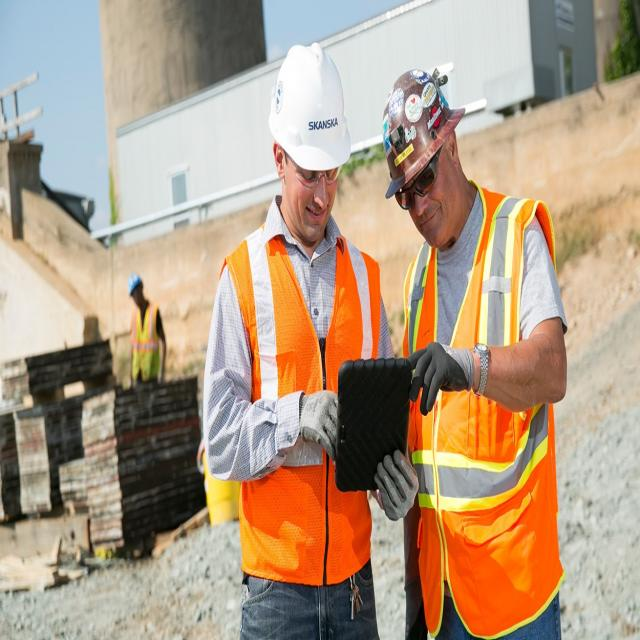Reflective-Jacket: (398, 197, 567, 640), (222, 225, 382, 589), (128, 301, 165, 386)
Safety-Helmet: (377, 61, 468, 198), (267, 36, 353, 175), (125, 270, 144, 297)
